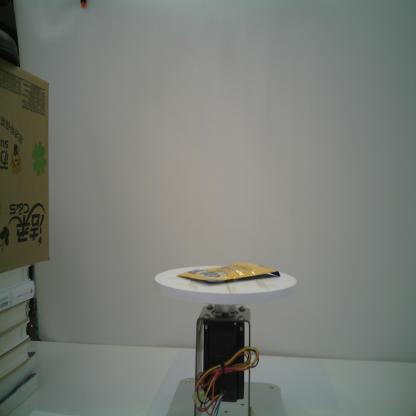Seasoner: (176, 260, 283, 286)
